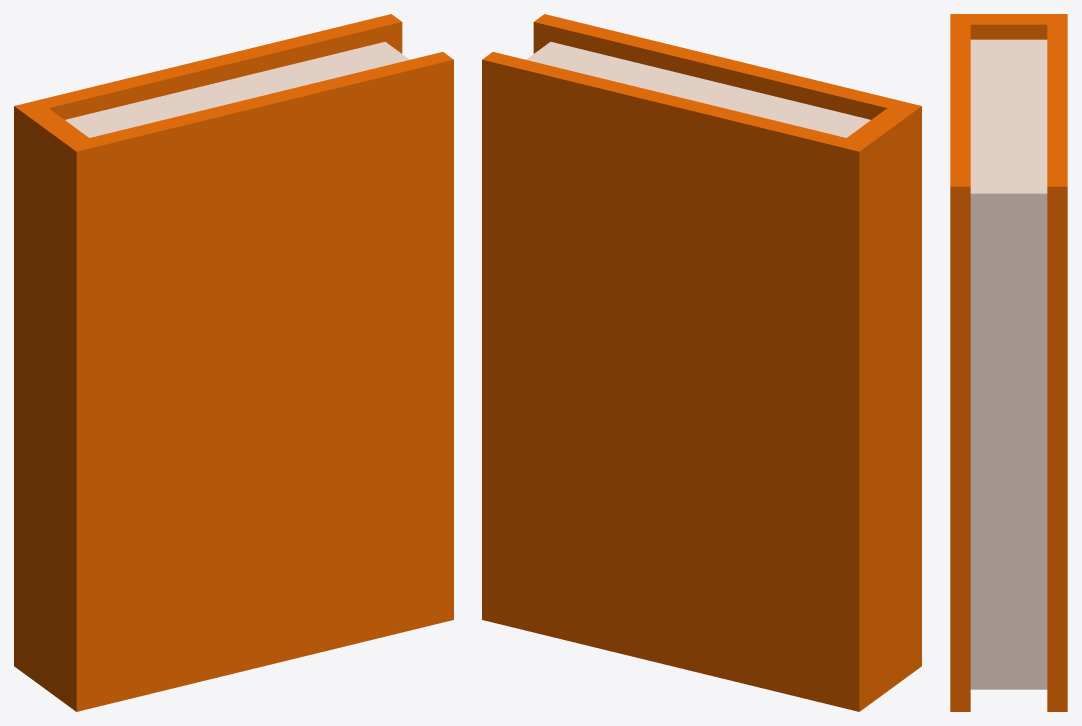
The model's file is BookOrange.fbx.
3 renders of one model, left to right at view 1: azimuth 30°, elevation 25°; view 2: azimuth 150°, elevation 25°; view 3: azimuth 270°, elevation 25°, orthographic. The views are drawn at different scales.
Visible parts, largest first — view 1: OrangeBook; view 2: OrangeBook; view 3: OrangeBook.
Part boxes in pixels (x1=…): OrangeBook: x1=14, y1=14, x2=453, y2=711; OrangeBook: x1=482, y1=14, x2=921, y2=711; OrangeBook: x1=950, y1=14, x2=1067, y2=711.
Size of the model in its own units: 0.2269 by 0.322 by 0.065.
